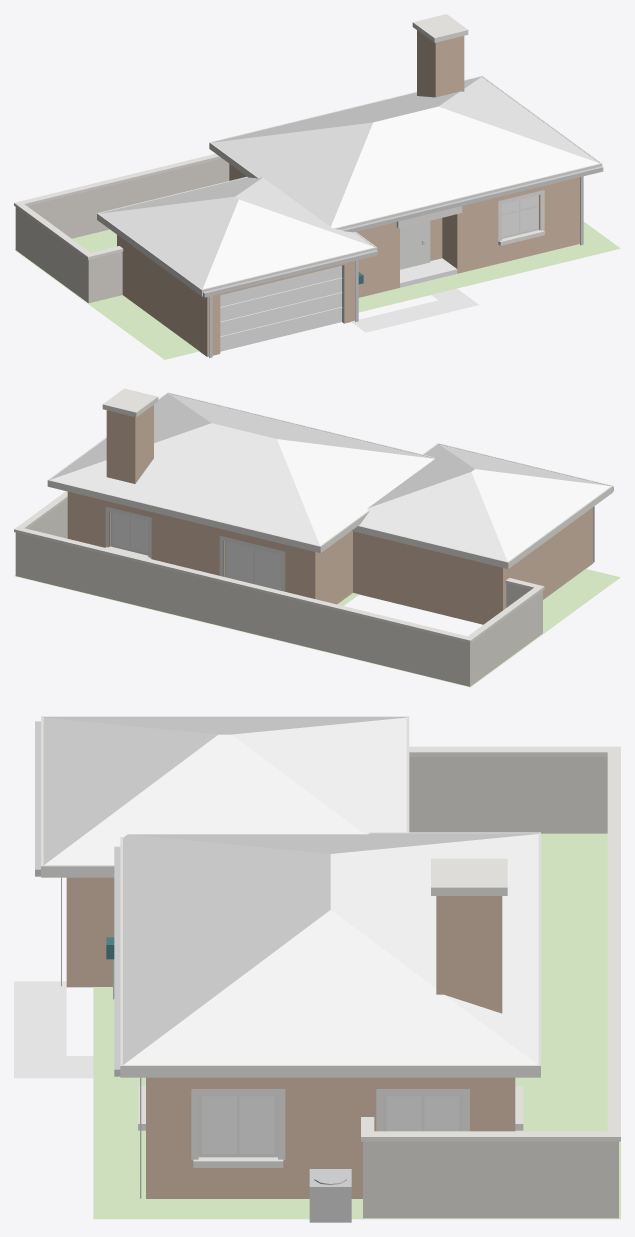
The model's file is house_spanish70s.glb.
The picture shows the model from 3 angles, top to bottom: view 1: azimuth 30°, elevation 25°; view 2: azimuth 150°, elevation 25°; view 3: azimuth 270°, elevation 25°; orthographic projection. The views are drawn at different scales.
Parts seen in each view (by area): view 1: house_spanish70s_Roof, house_spanish70s_Walls, house_spanish70s_Walls2, house_spanish70s_Trim, house_spanish70s_Lawn, house_spanish70s_Doors, house_spanish70s_Details, house_spanish70s_Site, house_spanish70s_Frames, house_spanish70s_Glass; view 2: house_spanish70s_Roof, house_spanish70s_Walls, house_spanish70s_Walls2, house_spanish70s_Trim, house_spanish70s_Glass, house_spanish70s_Lawn, house_spanish70s_Frames; view 3: house_spanish70s_Roof, house_spanish70s_Walls2, house_spanish70s_Lawn, house_spanish70s_Walls, house_spanish70s_Trim, house_spanish70s_Glass, house_spanish70s_Site, house_spanish70s_Details, house_spanish70s_Frames.
Boxes of the visible parts, <box> form: house_spanish70s_Roof: <box>99,77,599,289</box>; house_spanish70s_Walls: <box>117,30,579,356</box>; house_spanish70s_Walls2: <box>15,158,229,303</box>; house_spanish70s_Trim: <box>14,14,602,323</box>; house_spanish70s_Lawn: <box>14,221,620,359</box>; house_spanish70s_Doors: <box>220,265,342,351</box>; house_spanish70s_Details: <box>203,166,603,358</box>; house_spanish70s_Site: <box>351,258,478,332</box>; house_spanish70s_Frames: <box>400,195,539,269</box>; house_spanish70s_Glass: <box>502,195,537,236</box>; house_spanish70s_Roof: <box>50,393,610,561</box>; house_spanish70s_Walls: <box>67,405,593,624</box>; house_spanish70s_Walls2: <box>15,499,542,686</box>; house_spanish70s_Trim: <box>14,388,613,643</box>; house_spanish70s_Glass: <box>112,512,281,590</box>; house_spanish70s_Lawn: <box>14,569,620,687</box>; house_spanish70s_Frames: <box>110,511,281,590</box>; house_spanish70s_Roof: <box>43,717,538,1064</box>; house_spanish70s_Walls2: <box>363,757,618,1218</box>; house_spanish70s_Lawn: <box>93,833,620,1219</box>; house_spanish70s_Walls: <box>66,877,515,1198</box>; house_spanish70s_Trim: <box>41,716,620,1167</box>; house_spanish70s_Glass: <box>202,1096,459,1153</box>; house_spanish70s_Site: <box>14,981,93,1078</box>; house_spanish70s_Details: <box>35,721,351,1222</box>; house_spanish70s_Frames: <box>198,1095,462,1157</box>.
Size of the model in its own units: 70.59 by 23.74 by 46.
